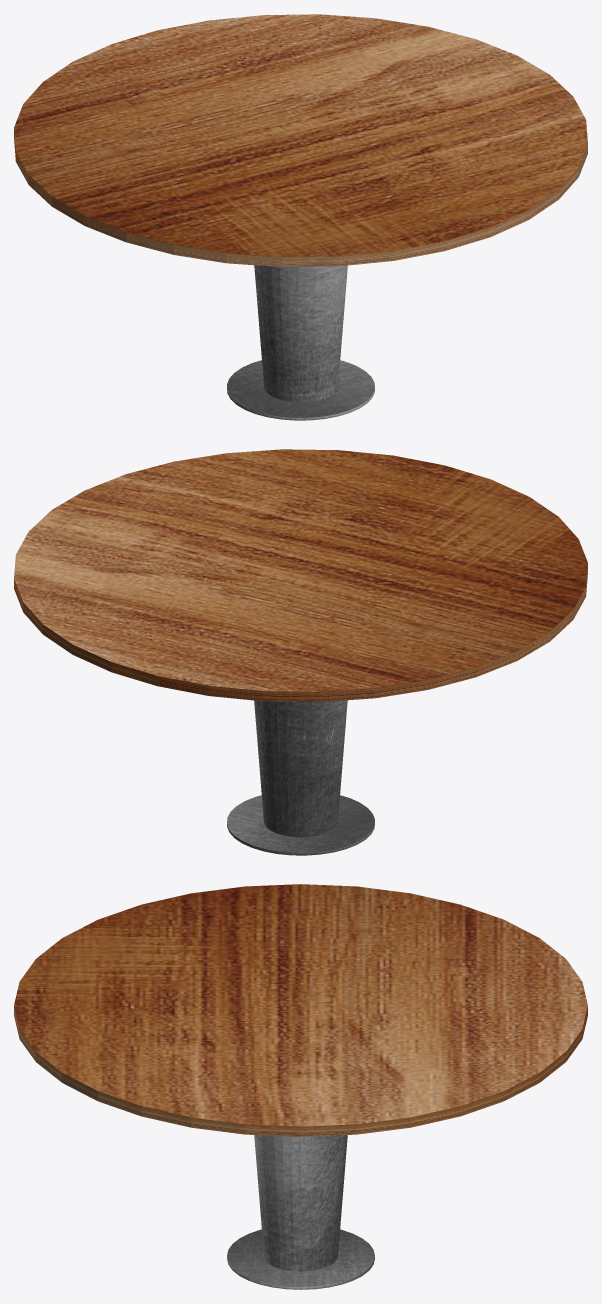
Rendered from Table.glb.
3 renders of one model, top to bottom at view 1: azimuth 30°, elevation 25°; view 2: azimuth 150°, elevation 25°; view 3: azimuth 270°, elevation 25°, orthographic.
Visible parts, largest first — view 1: Cylinder, Cylinder.001, Cylinder.002; view 2: Cylinder, Cylinder.001, Cylinder.002; view 3: Cylinder, Cylinder.001, Cylinder.002.
Boxes of the visible parts, left/top/right/bottom form: Cylinder: left=14, top=14, right=587, bottom=267; Cylinder.001: left=254, top=265, right=347, bottom=402; Cylinder.002: left=227, top=360, right=374, bottom=420; Cylinder: left=14, top=449, right=587, bottom=702; Cylinder.001: left=254, top=700, right=347, bottom=837; Cylinder.002: left=227, top=795, right=374, bottom=855; Cylinder: left=14, top=884, right=587, bottom=1136; Cylinder.001: left=254, top=1135, right=347, bottom=1271; Cylinder.002: left=227, top=1229, right=374, bottom=1289.
Size of the model in its own units: 2 by 0.9732 by 2.
Materials: 2 (2 with a texture image).
